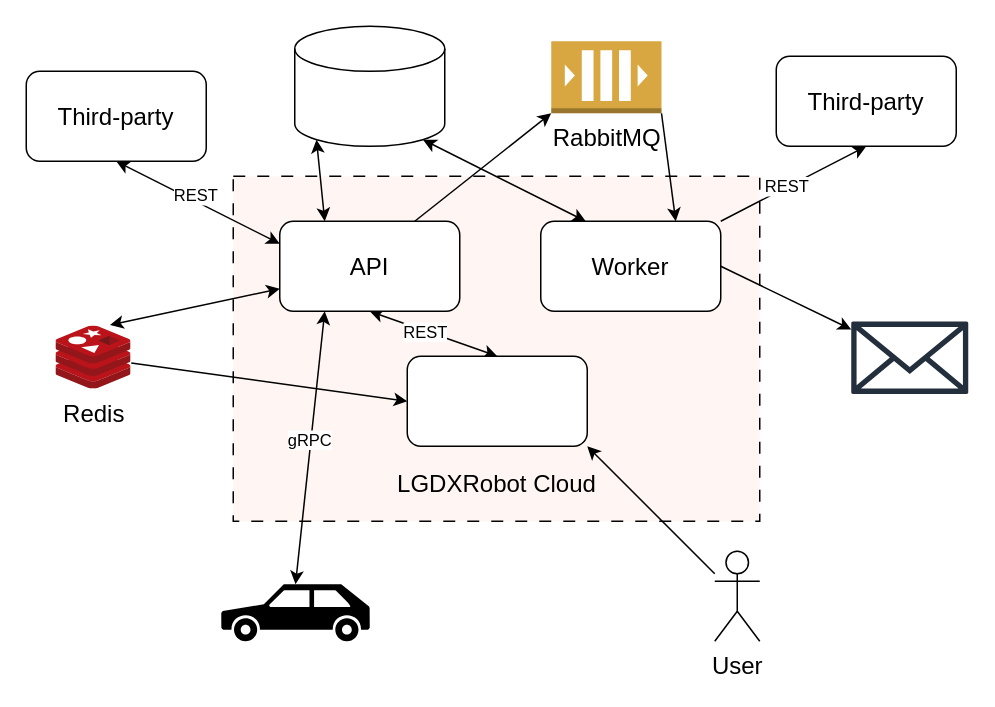
The diagram is 995 pixels wide and 707 high, and some of its shapes have lost their labels. Each missing label, with the centre of its shape:
Database: pixel 369 85
Robot: pixel 294 612
SMTP: pixel 909 357
UI: pixel 496 400
